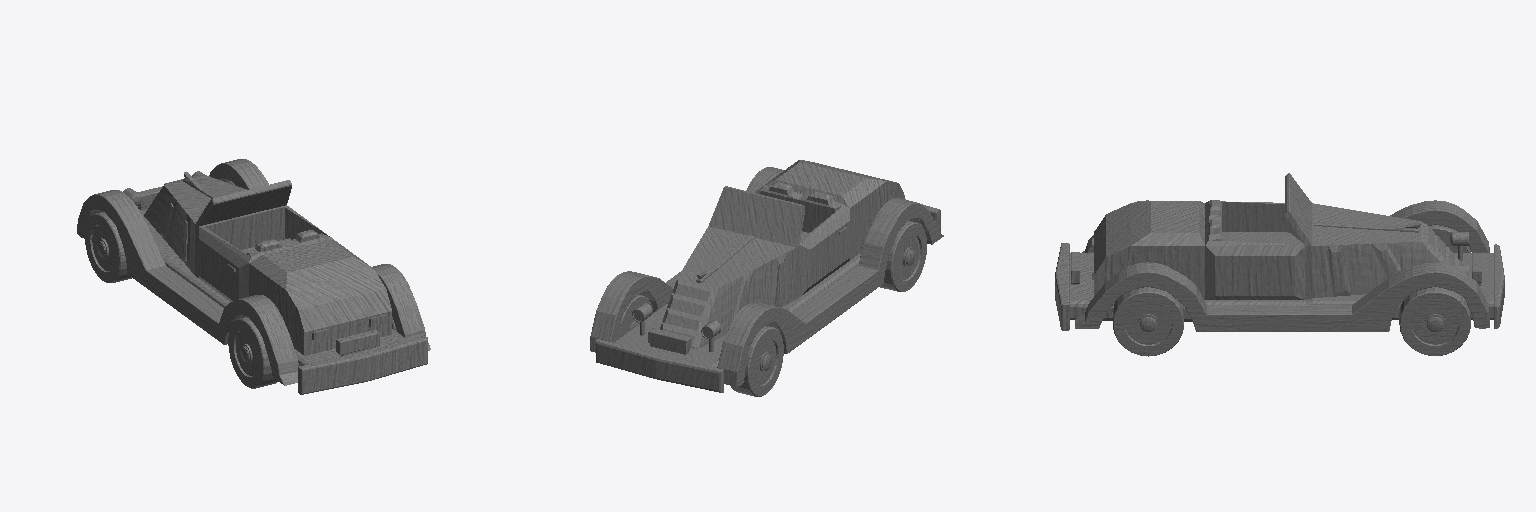
3 views of the same model, side by side, from view 1: azimuth 30°, elevation 25°; view 2: azimuth 150°, elevation 25°; view 3: azimuth 270°, elevation 25° (orthographic).
Visible parts, largest first — view 1: pCylinder15; view 2: pCylinder15; view 3: pCylinder15.
Boxes of the visible parts, x1,y1,x2,y2 form: pCylinder15: [77, 159, 430, 394]; pCylinder15: [590, 160, 943, 396]; pCylinder15: [1055, 173, 1504, 356].
Size of the model in its own units: 18.18 by 14.11 by 45.06.
Materials: 5 (1 with a texture image).